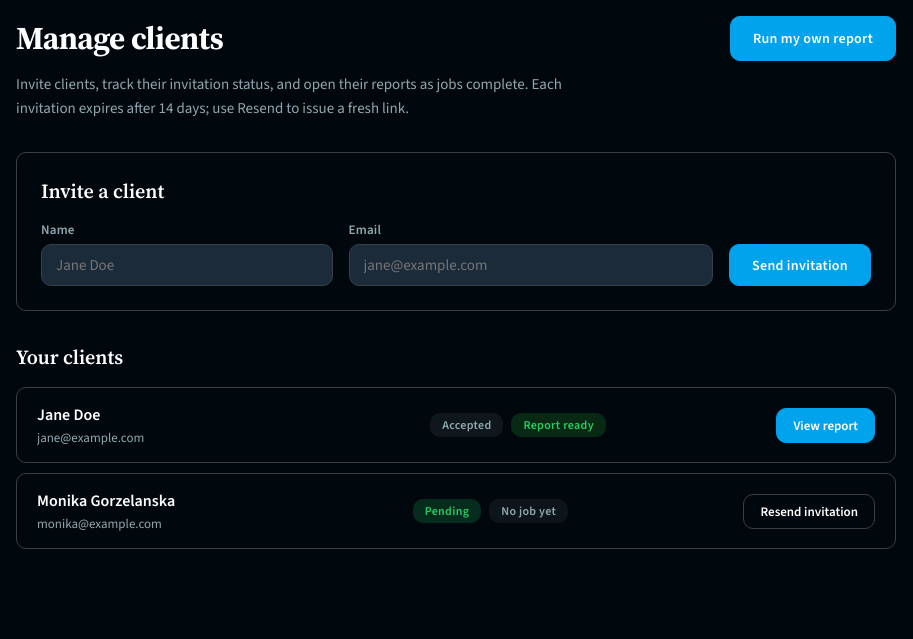
it: ClientsPage resend confirmation (ORPHEUS-93) › arms an inline confirmation on Resend click without firing the mutation
Click the button "Resend invitation" at coordinates (809, 511), box [744,494,875,528]
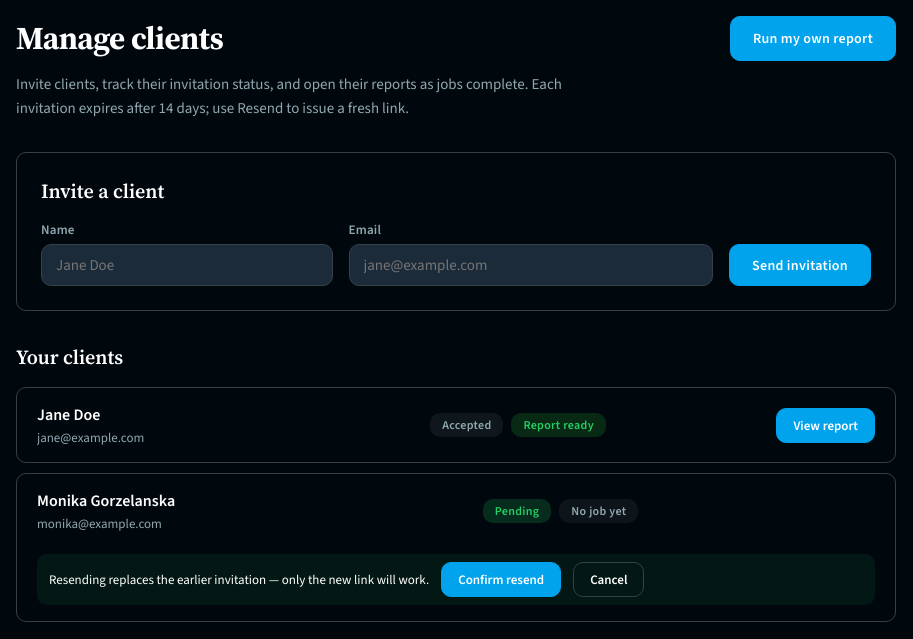
Result: the text "replaces the earlier invitation" is shown at [49,571,429,588]
Result: the button "Resend invitation" is gone
